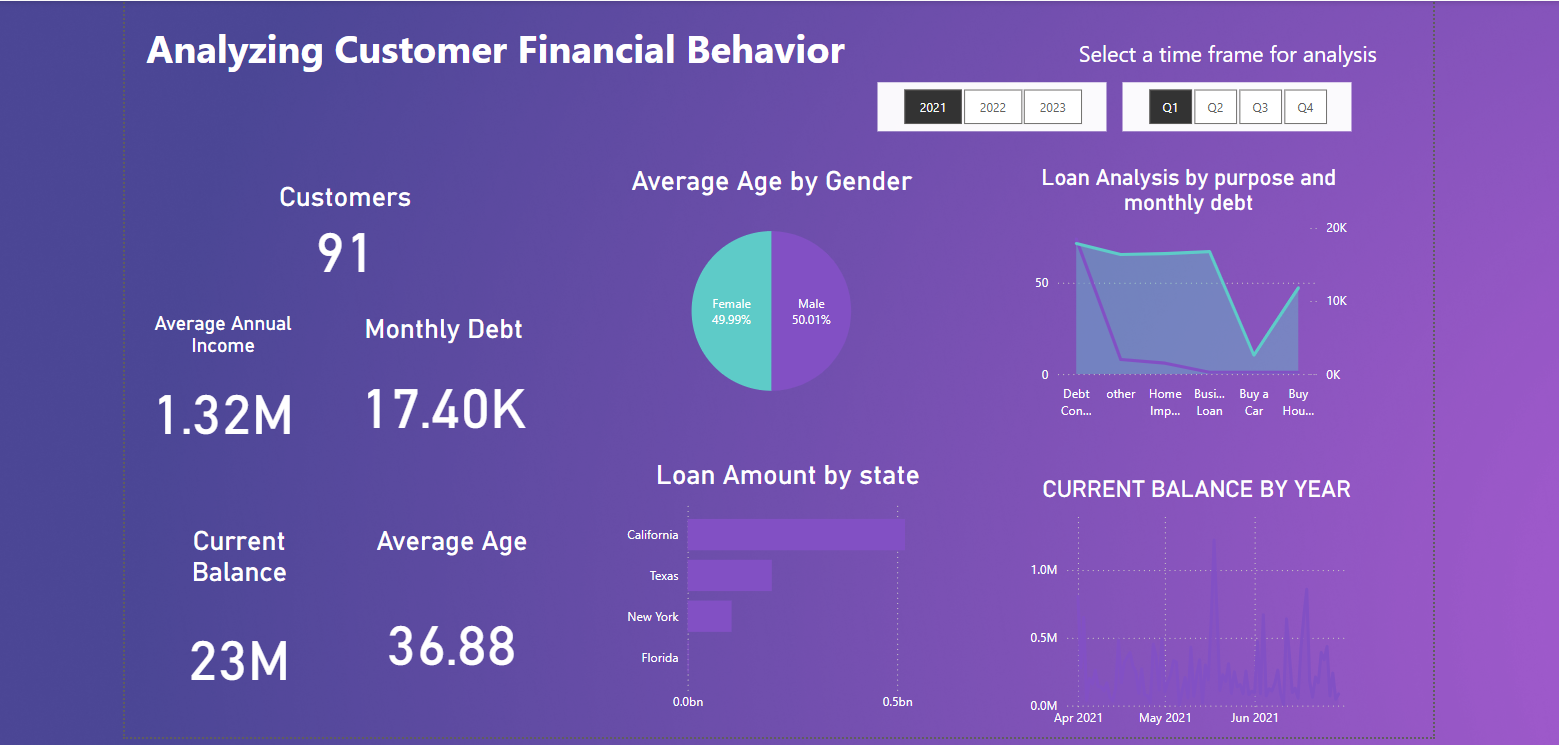

What the dashboard file says about the page in this screenshot:
{"tool":"powerbi","page":{"name":"Report Page","canvas":[1280,720],"ordinal":0},"visuals":[{"type":"textbox","box":[16,16,1248,96],"z":0},{"type":"slicer","fields":{"Values":["Calendar.Start of Month.Variation.Date Hierarchy.Year"]},"box":[736,80,224,48],"z":1},{"type":"textbox","box":[928,32,320,48],"z":3},{"type":"card","title":"Customers","fields":{"Values":["CountNonNull(Customer_Details.Customer Name)"]},"box":[80,176,272,96],"z":4},{"type":"card","title":"Monthly Debt","fields":{"Values":["Dax-Measures.Average Monthly Debt"]},"box":[224,304,176,144],"z":6},{"type":"card","title":"Current Balance","fields":{"Values":["Dax-Measures.Total Current Credit Balance"]},"box":[16,512,192,192],"z":9},{"type":"card","title":"Average Age","fields":{"Values":["Dax-Measures.Average age"]},"box":[224,512,192,192],"z":10},{"type":"card","title":"Average Annual Income","fields":{"Values":["Dax-Measures.Average Annual Income"]},"box":[16,304,160,144],"z":11},{"type":"pieChart","title":"Average Age by Gender","fields":{"Category":["Customer_Details.Gender"],"Y":["Dax-Measures.Average age"]},"box":[480,160,304,256],"z":12},{"type":"areaChart","title":"Loan Analysis by purpose and monthly debt","fields":{"Category":["Bank_Details.Purpose"],"Y":["Dax-Measures.Total Loans"],"Y2":["Dax-Measures.Average Monthly Debt"]},"box":[880,160,320,256],"z":13},{"type":"clusteredBarChart","title":"Loan Amount by state","fields":{"Category":["Customer_Details.State"],"Y":["Sum(Bank_Details.Current Loan Amount)"]},"box":[480,448,336,256],"z":14},{"type":"areaChart","title":"CURRENT BALANCE BY YEAR","fields":{"Category":["Bank_Details.Date Joined"],"Y":["Sum(Bank_Details.Current Credit Balance)"]},"box":[880,464,336,256],"z":15},{"type":"slicer","fields":{"Values":["Calendar.Quarter_q"]},"box":[976,80,224,48],"z":16}]}

Visuals, with their boxes on the page's 1280x720 design canvas (x1, y1, x2, y2). These are canvas units, not pixel positions in the 1559x745 screenshot, which may show the page scaled, cropped or inside an application window:
textbox: BBox(16, 16, 1264, 112)
slicer - Calendar.Start of Month.Variation.Date Hierarchy.Year: BBox(736, 80, 960, 128)
textbox: BBox(928, 32, 1248, 80)
"Customers" card: BBox(80, 176, 352, 272)
"Monthly Debt" card: BBox(224, 304, 400, 448)
"Current Balance" card: BBox(16, 512, 208, 704)
"Average Age" card: BBox(224, 512, 416, 704)
"Average Annual Income" card: BBox(16, 304, 176, 448)
"Average Age by Gender" pieChart: BBox(480, 160, 784, 416)
"Loan Analysis by purpose and monthly debt" areaChart: BBox(880, 160, 1200, 416)
"Loan Amount by state" clusteredBarChart: BBox(480, 448, 816, 704)
"CURRENT BALANCE BY YEAR" areaChart: BBox(880, 464, 1216, 720)
slicer - Calendar.Quarter_q: BBox(976, 80, 1200, 128)
